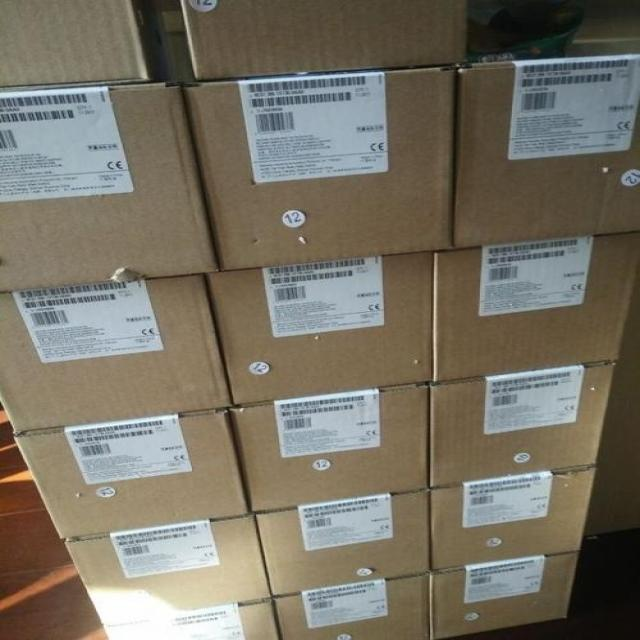box: (187, 67, 454, 270), (2, 82, 221, 292), (0, 273, 233, 436), (452, 55, 639, 248), (203, 251, 434, 406), (15, 409, 252, 540), (431, 231, 639, 380), (228, 384, 430, 511), (429, 361, 618, 488), (61, 514, 272, 626), (180, 0, 469, 80), (254, 489, 432, 596), (431, 466, 598, 571), (430, 553, 580, 639), (0, 3, 147, 88), (273, 574, 432, 638), (102, 600, 282, 639), (149, 9, 201, 80), (571, 14, 639, 56)
